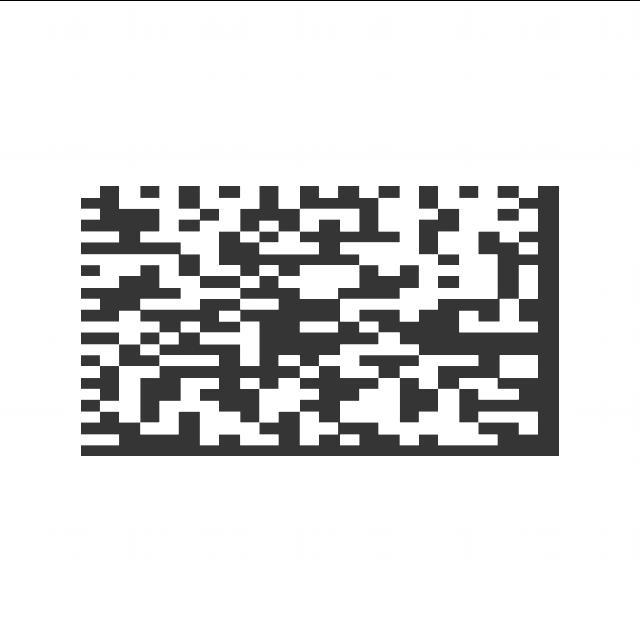Data-Matrix: (68, 173, 576, 462)
